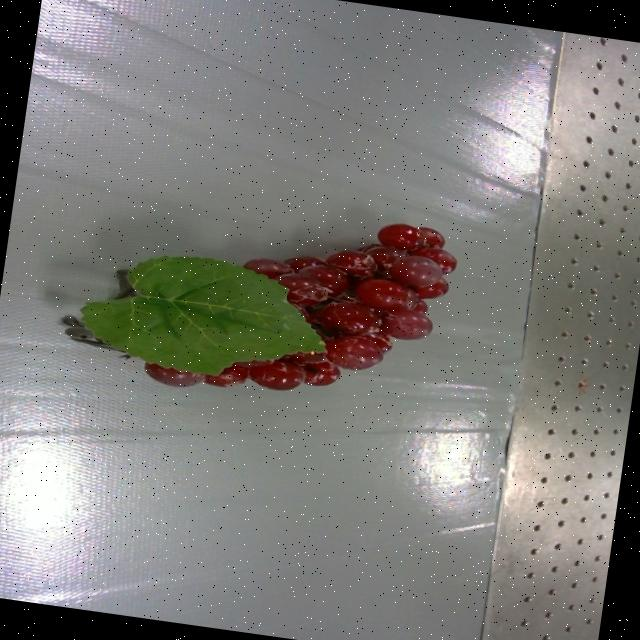grape: (64, 222, 457, 390)
